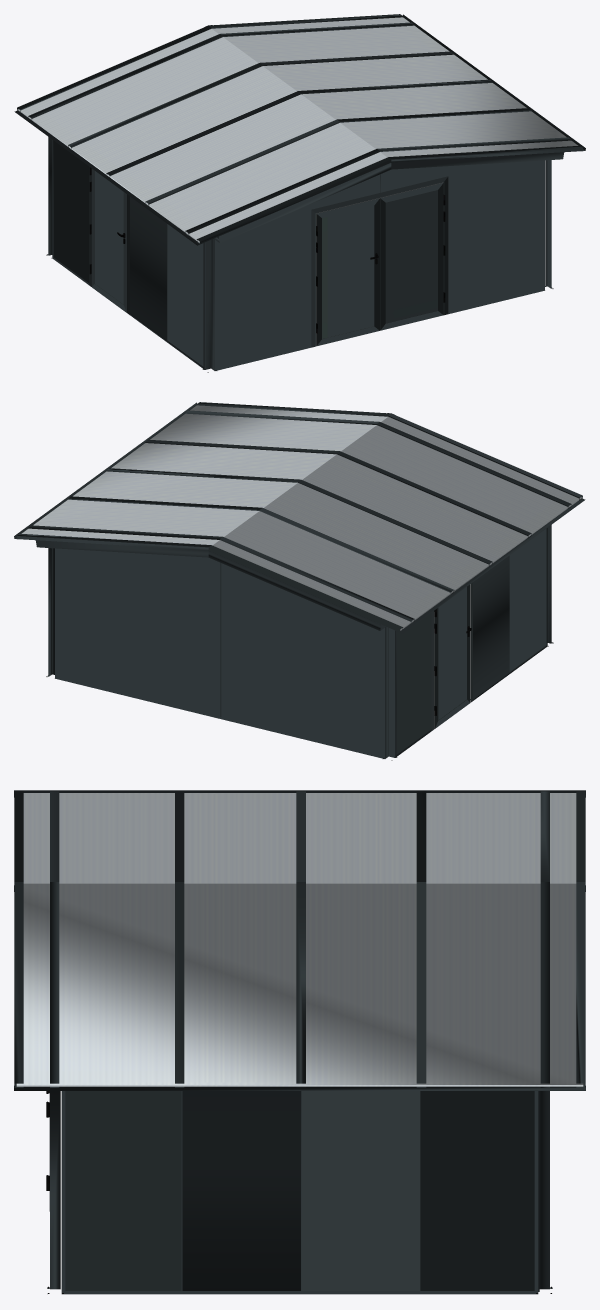
3 renders of one model, top to bottom at view 1: azimuth 30°, elevation 25°; view 2: azimuth 150°, elevation 25°; view 3: azimuth 270°, elevation 25°, orthographic. The views are drawn at different scales.
Parts seen in each view (by area): view 1: priximbattable_net_abris_de_voiture_640014_garage_polycarbon, folha_2, folha_3, folha, porta_dupla, porta; view 2: priximbattable_net_abris_de_voiture_640014_garage_polycarbon, folha, porta; view 3: priximbattable_net_abris_de_voiture_640014_garage_polycarbon.
Part boxes in pixels (bbox=[...]): priximbattable_net_abris_de_voiture_640014_garage_polycarbon: bbox=[14, 14, 585, 372]; folha_2: bbox=[380, 182, 445, 330]; folha_3: bbox=[316, 198, 379, 346]; folha: bbox=[89, 167, 127, 312]; porta_dupla: bbox=[311, 176, 448, 347]; porta: bbox=[89, 166, 129, 314]; priximbattable_net_abris_de_voiture_640014_garage_polycarbon: bbox=[14, 402, 585, 760]; folha: bbox=[434, 584, 470, 728]; porta: bbox=[431, 582, 472, 730]; priximbattable_net_abris_de_voiture_640014_garage_polycarbon: bbox=[14, 790, 585, 1294].
Bounding box in the file's own units: 589 × 261 × 480.
Materials: 1 (1 with a texture image).
